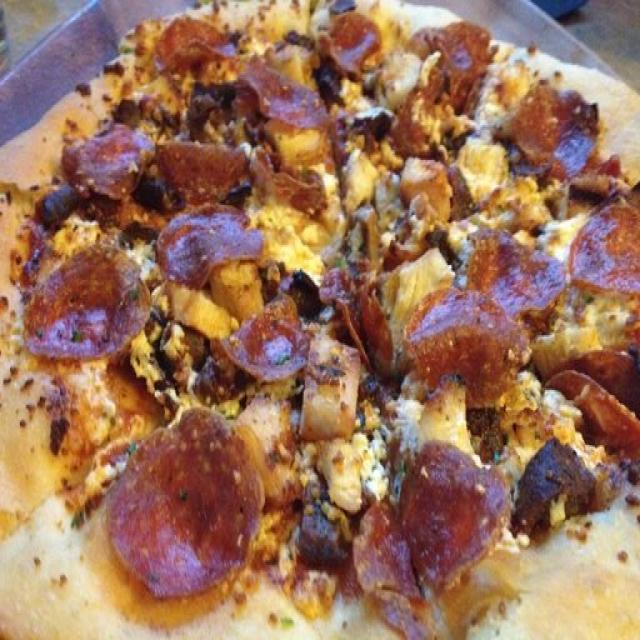Chicken: (266, 210, 329, 281), (310, 332, 350, 432), (67, 368, 118, 438), (518, 187, 581, 243), (410, 162, 456, 230), (291, 558, 342, 616), (168, 290, 232, 336), (459, 138, 506, 198), (326, 440, 363, 514), (427, 384, 470, 442), (382, 49, 428, 97), (506, 386, 538, 449), (250, 396, 291, 445), (342, 151, 374, 211), (391, 263, 452, 292), (274, 131, 320, 148)
Pepperoni: (111, 406, 259, 592), (358, 447, 498, 623), (32, 250, 146, 362), (410, 294, 522, 384), (550, 352, 640, 454), (469, 234, 563, 308), (320, 272, 392, 364), (155, 134, 244, 205), (573, 198, 640, 290), (520, 84, 589, 170), (66, 125, 151, 193), (226, 304, 308, 372), (164, 206, 260, 264), (246, 58, 321, 128), (436, 24, 487, 112), (154, 11, 236, 59), (324, 14, 377, 68)
Pizza: (0, 3, 640, 640)
